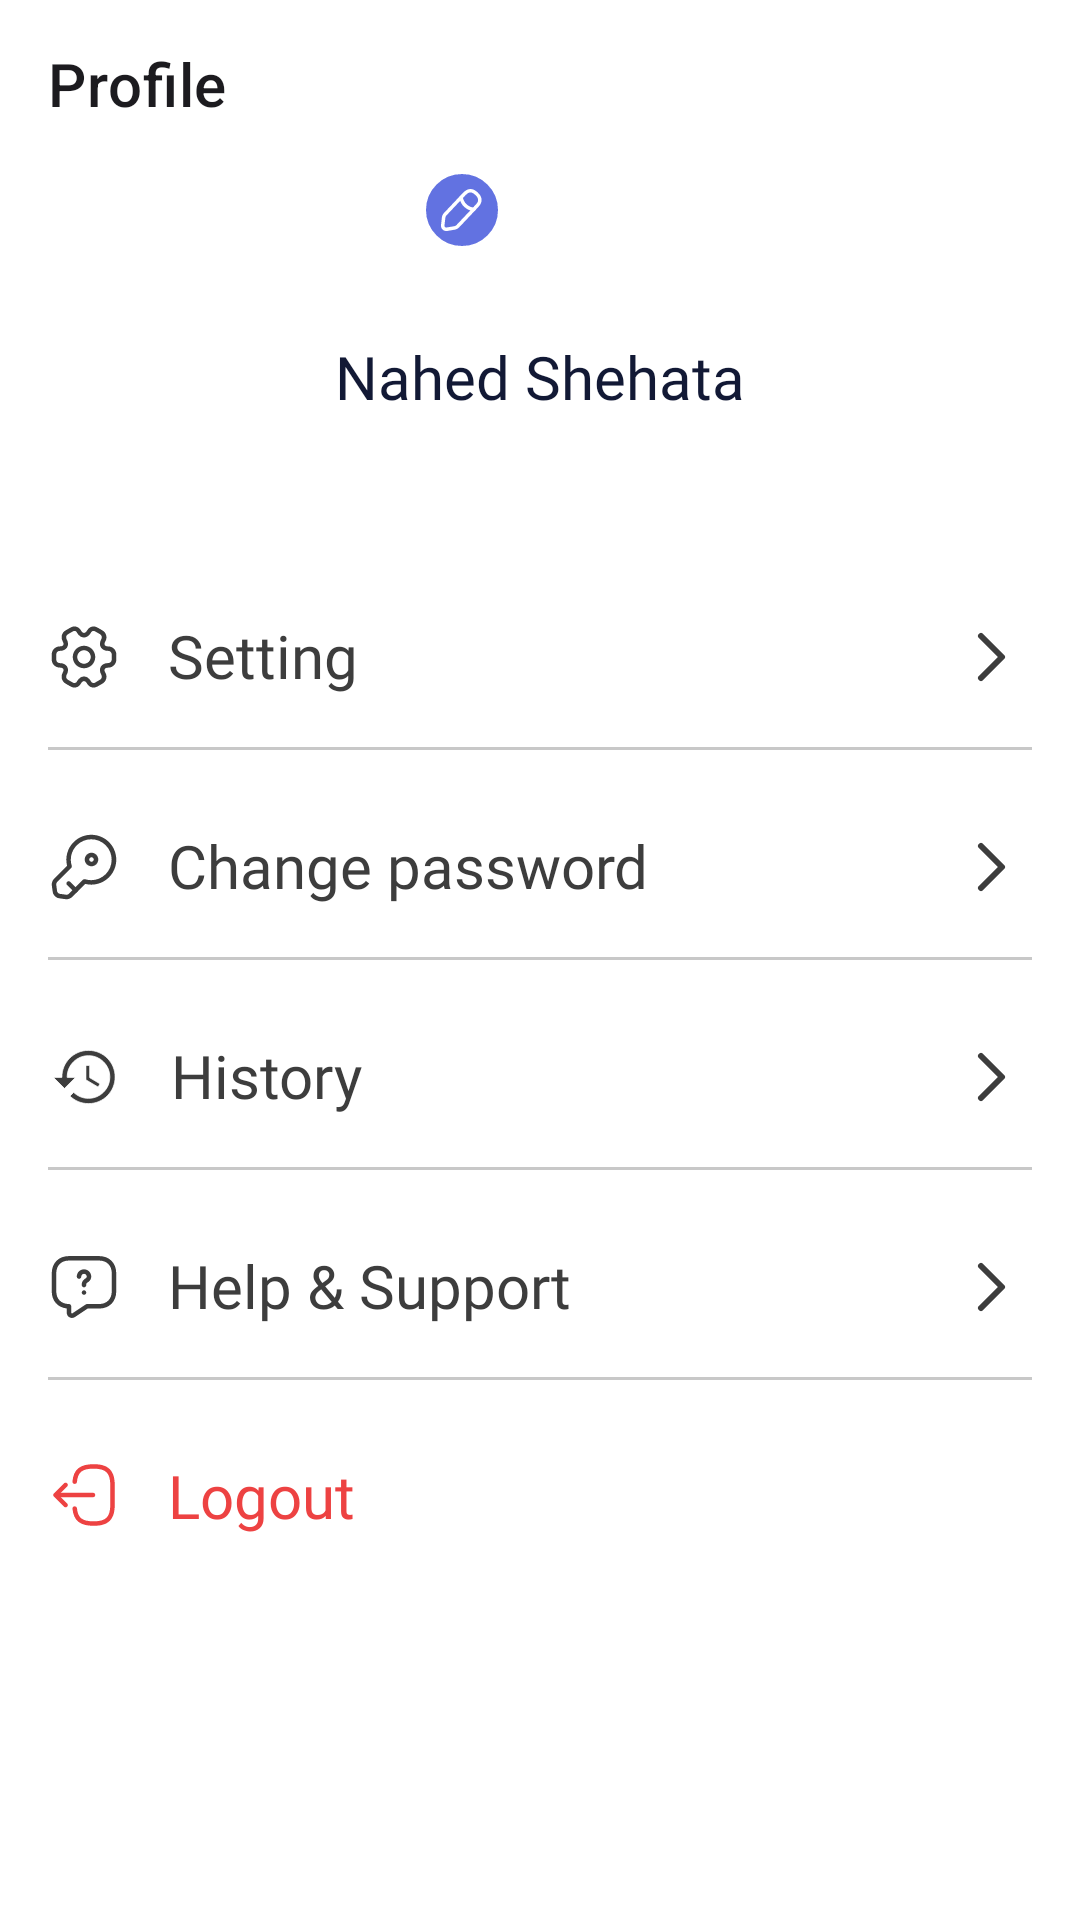

Icon bounding boxes for this 1080px×1920px phone screenshot, format (left=x1, top=y1, right=x2, bottom=y2):
pen: (left=426, top=174, right=498, bottom=246)
